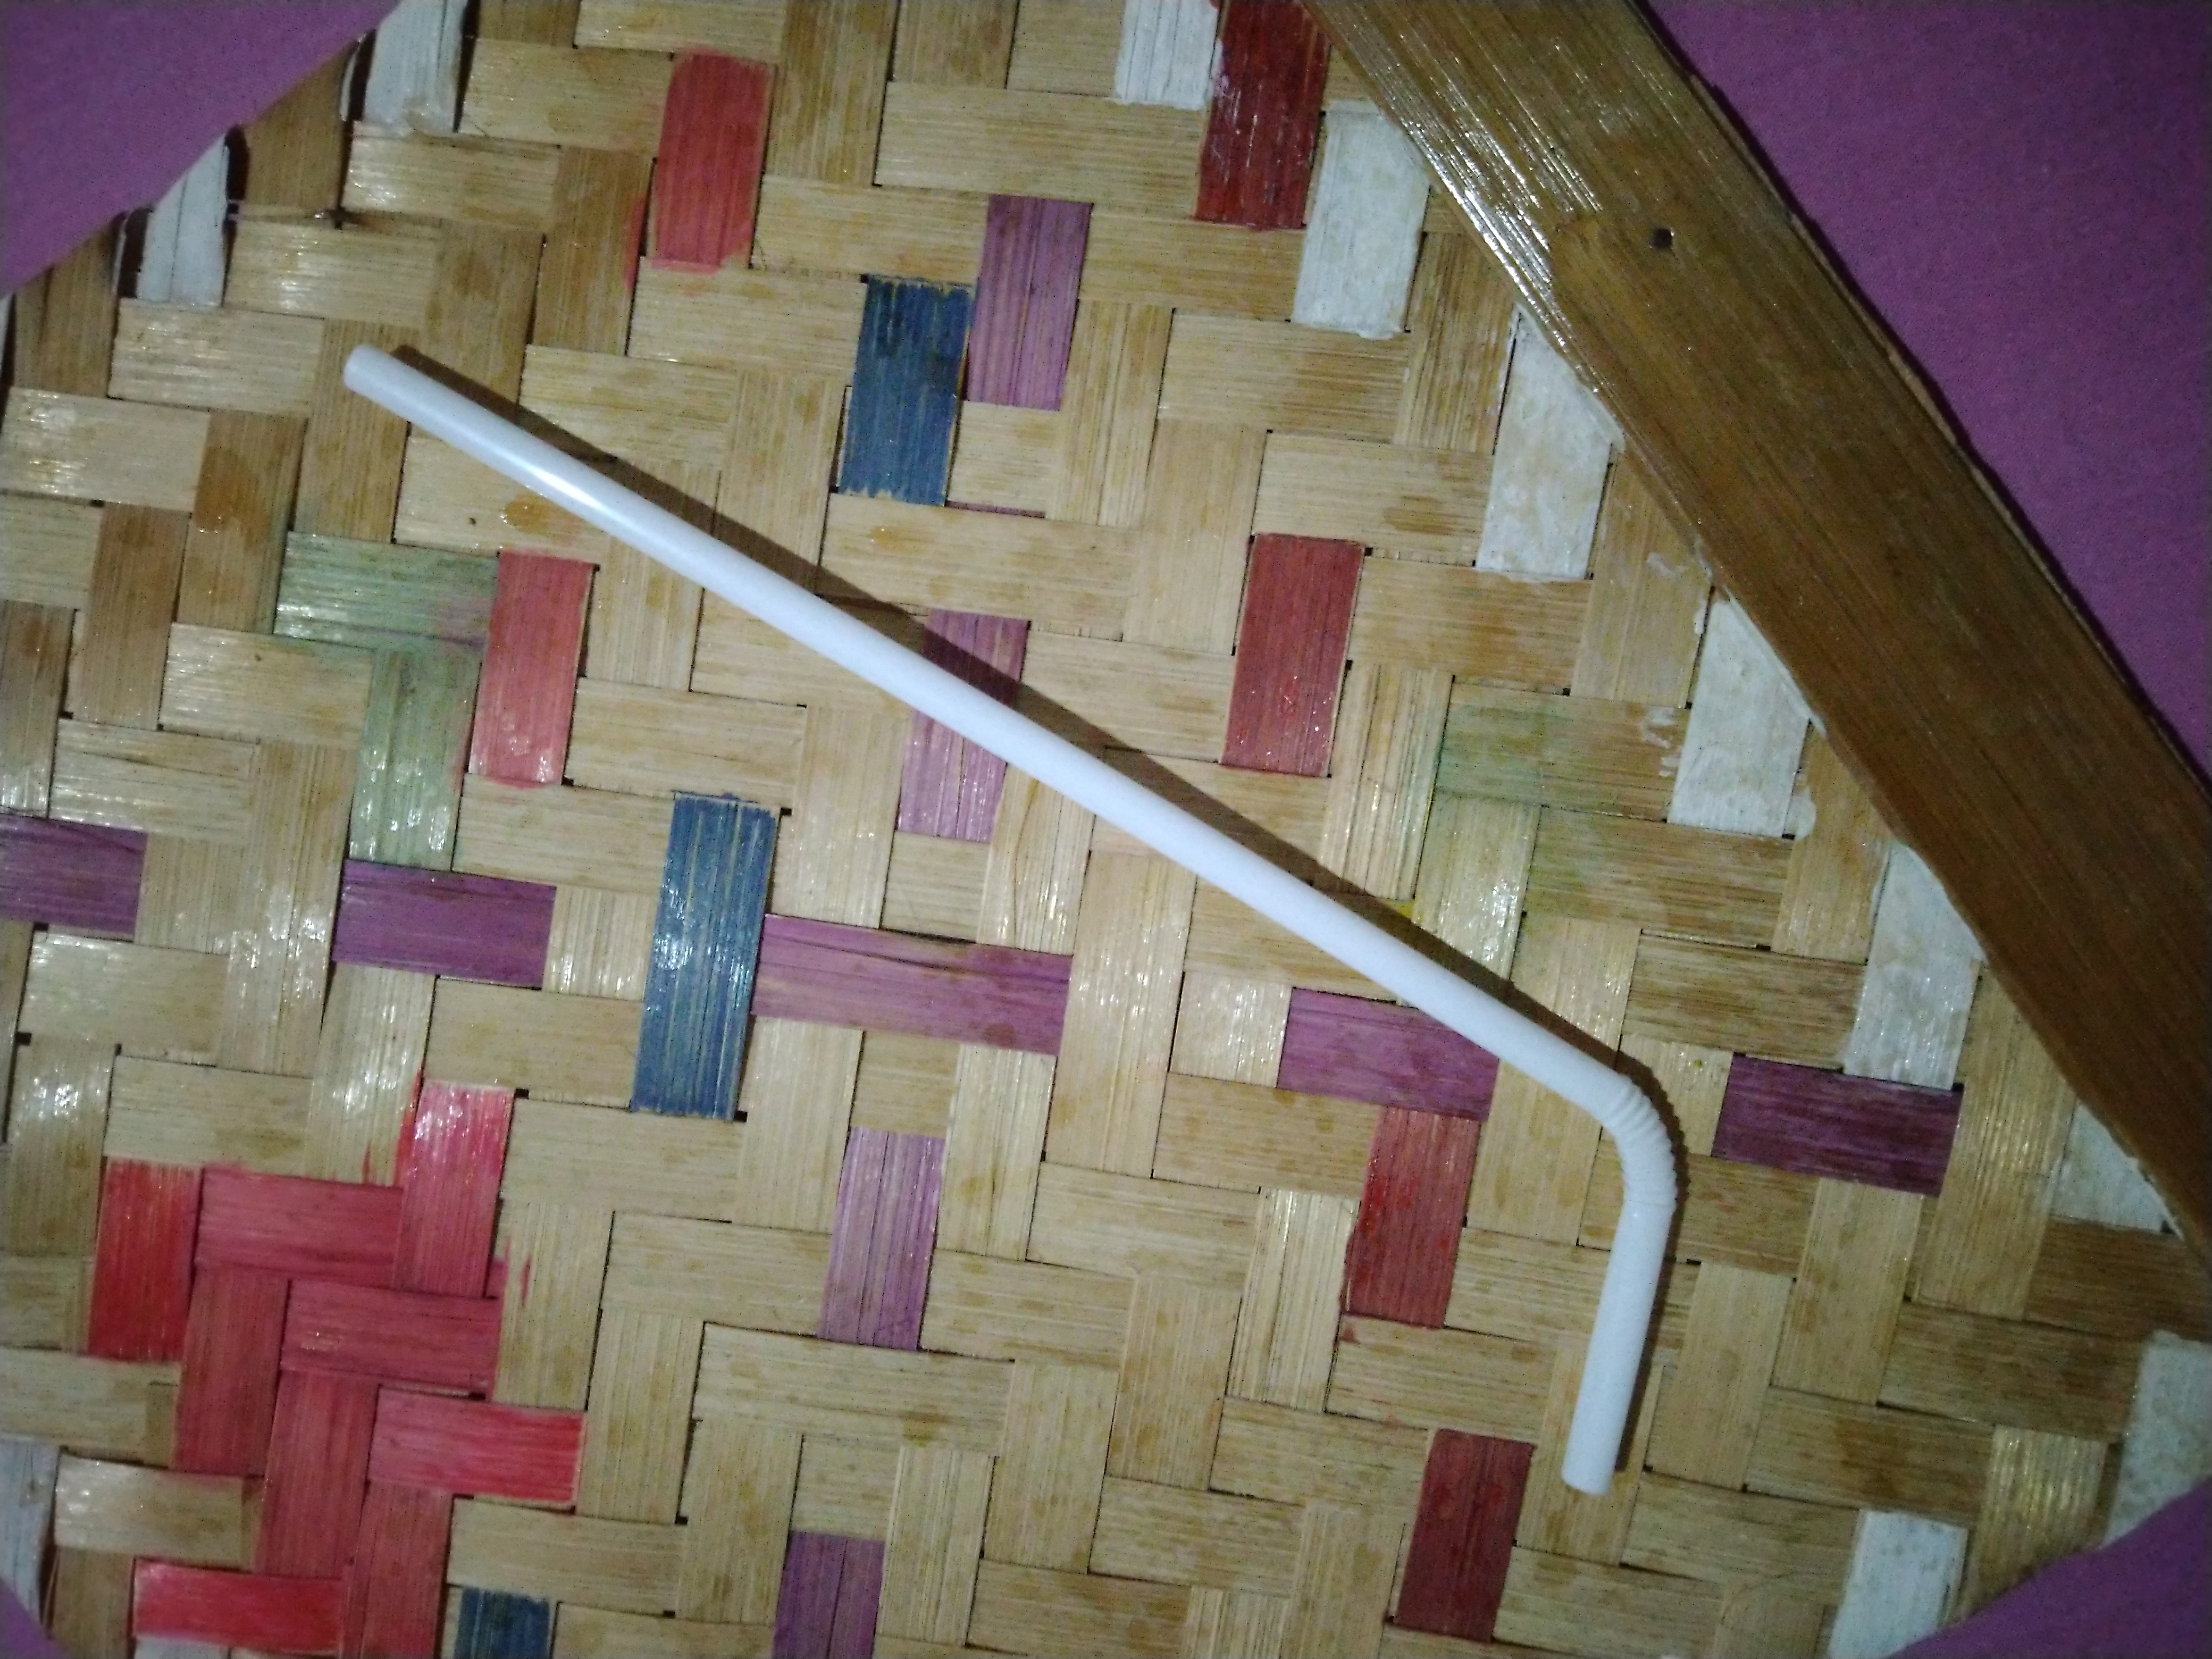PP: (340, 345, 1667, 1493)
